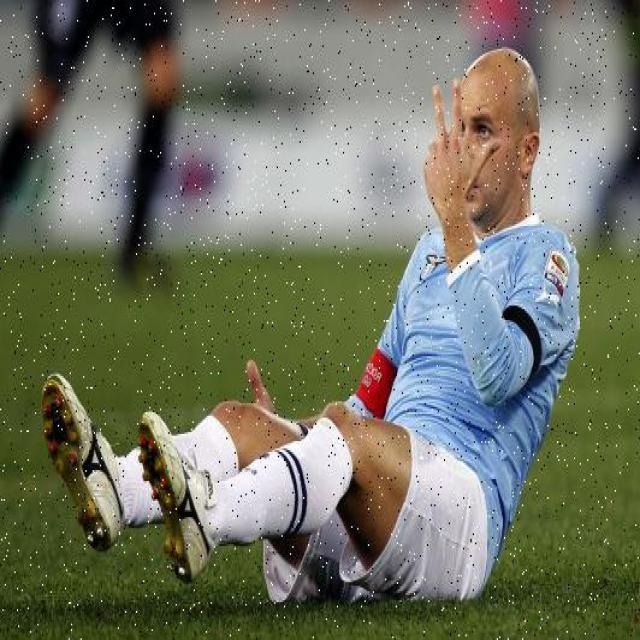fall: (82, 55, 560, 590)
